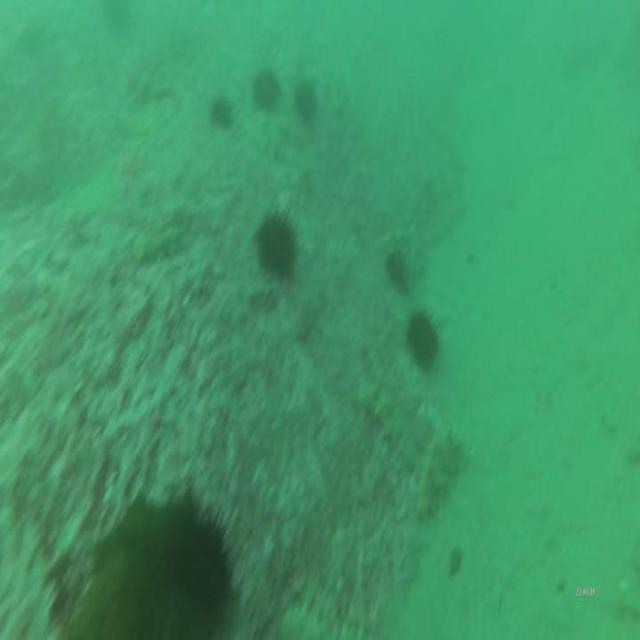echinus: (162, 495, 235, 627), (255, 207, 300, 283), (404, 305, 442, 376), (250, 65, 282, 114), (294, 81, 324, 128), (382, 245, 409, 291), (208, 90, 233, 133)
holothurian: (354, 365, 426, 479), (409, 419, 466, 526), (130, 217, 183, 270)
